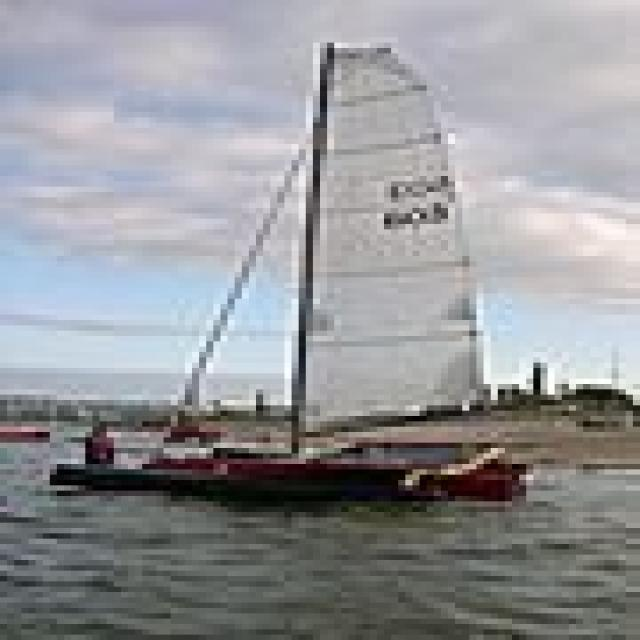Ship: (62, 31, 545, 505)
